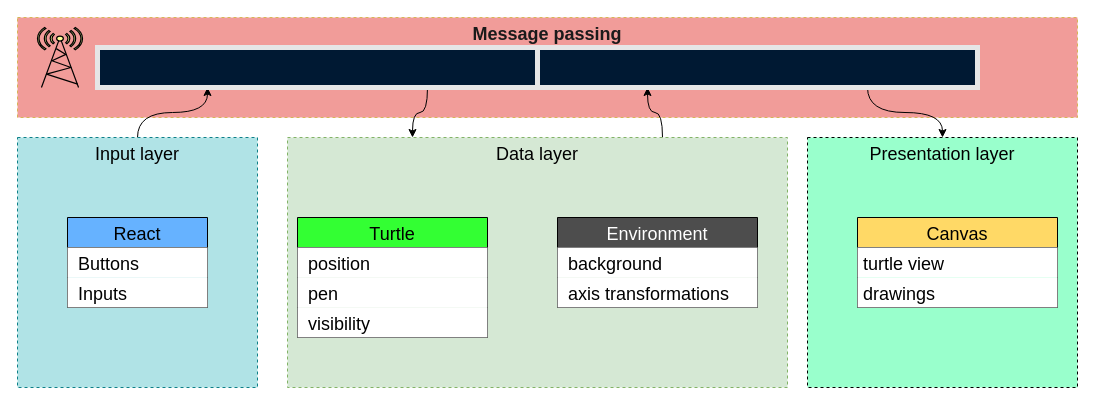
This 1095x405 diagram has some shape labels left out. The shapes that lost their labels are listed below. From the top down, each one's centre as x and y in pixels, then its label:
At (317,67): "Input Actions".
At (757,67): "Data updates".
